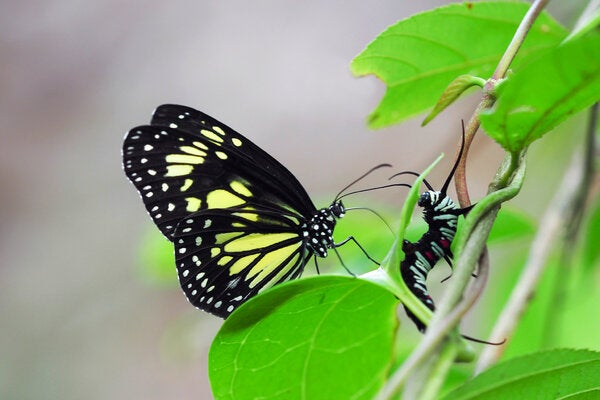Butterfly: (124, 100, 412, 323)
